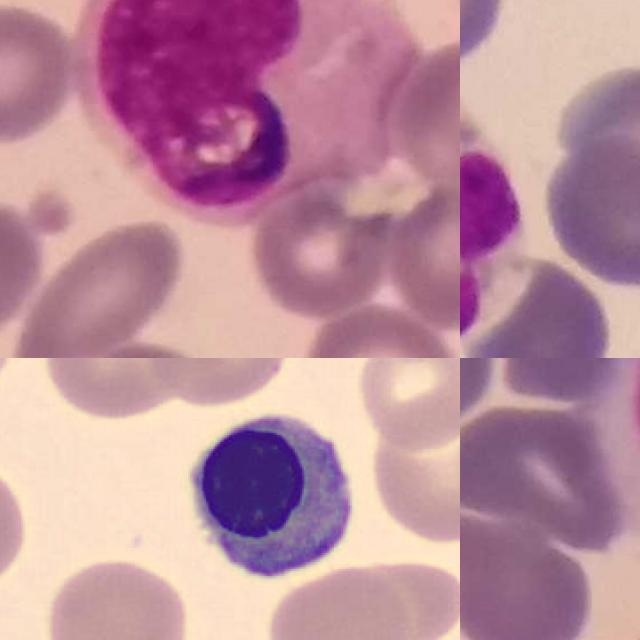Eosinophil: (460, 63, 529, 358)
Lymphocyte: (174, 400, 366, 587)
Monocyte: (80, 0, 415, 217)
RBC: (368, 394, 460, 546), (38, 553, 193, 640), (309, 551, 460, 640), (261, 562, 415, 640), (353, 358, 460, 450), (37, 358, 190, 422), (142, 358, 293, 408), (0, 440, 32, 623)
